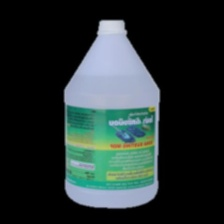cleaning_solution: (61, 15, 164, 212)
